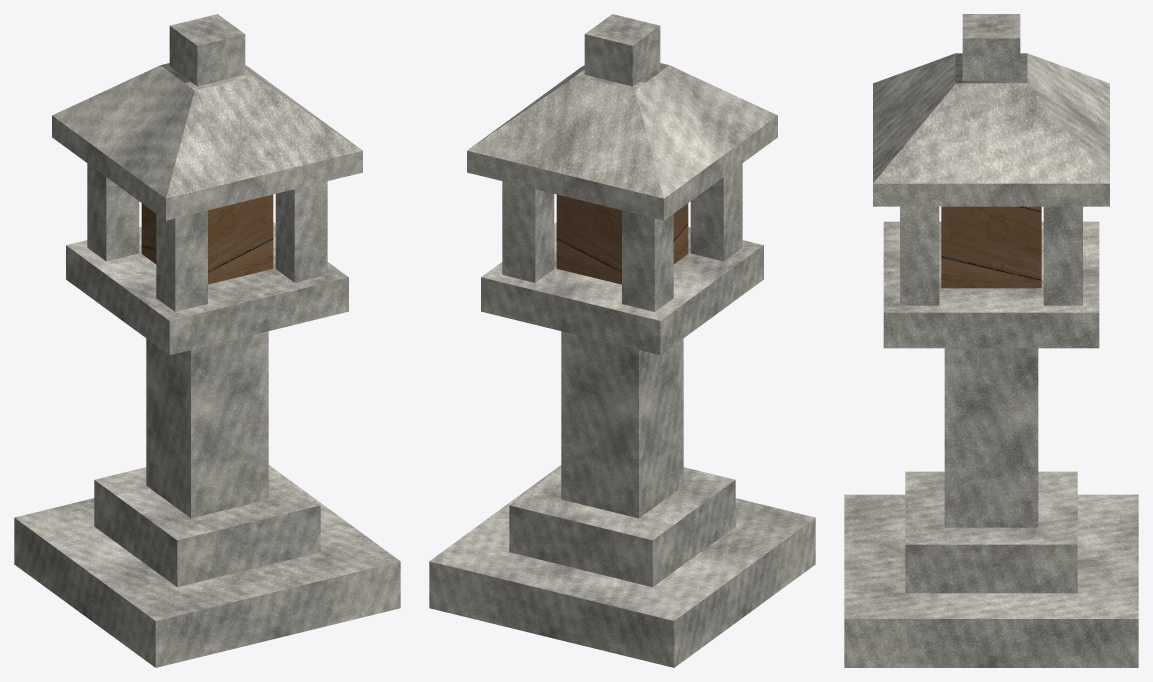
Rendered from stone-lantern.obj.
3 views of the same model, side by side, from view 1: azimuth 30°, elevation 25°; view 2: azimuth 150°, elevation 25°; view 3: azimuth 270°, elevation 25° (orthographic). The views are drawn at different scales.
Bounding box in the file's own units: 0.82 × 1.78 × 0.82.
Materials: 4 (4 with a texture image).
